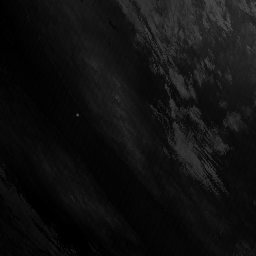Target: (75, 112, 80, 117)
